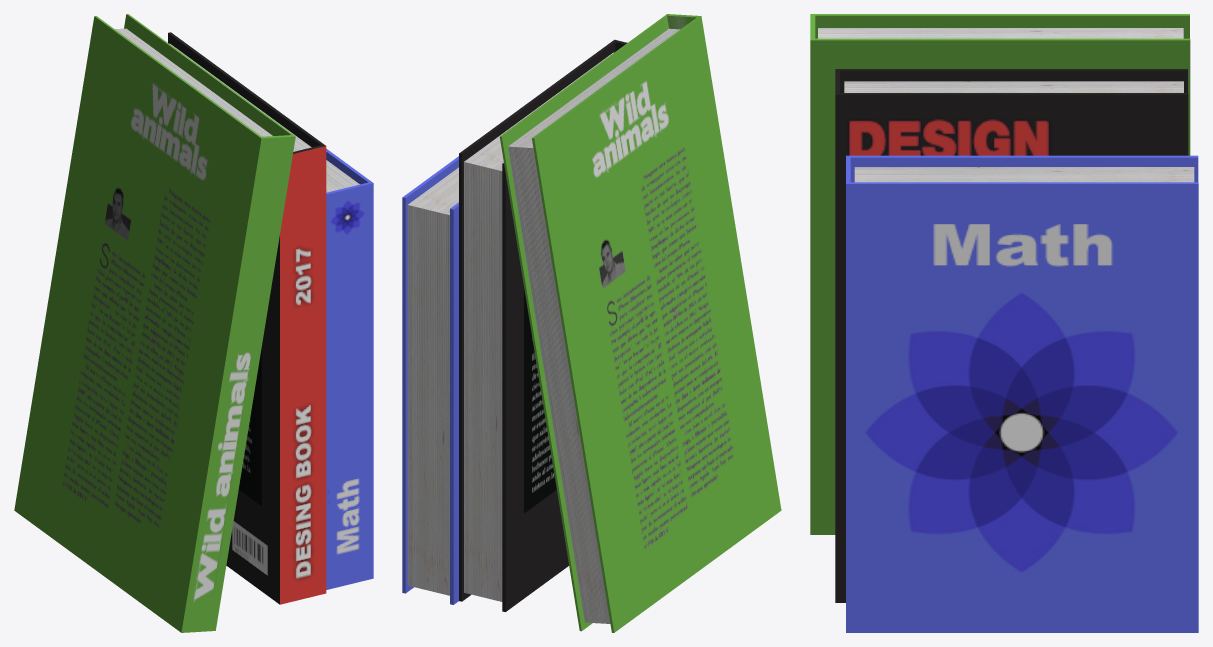
Rendered from Books 1.FBX.
3 renders of one model, left to right at view 1: azimuth 30°, elevation 25°; view 2: azimuth 150°, elevation 25°; view 3: azimuth 270°, elevation 25°, orthographic. The views are drawn at different scales.
Parts seen in each view (by area): view 1: Books 1; view 2: Books 1; view 3: Books 1.
Part boxes in pixels (bbox=[...]): Books 1: bbox=[14, 14, 373, 632]; Books 1: bbox=[402, 14, 781, 632]; Books 1: bbox=[810, 14, 1198, 632].
Bounding box in the file's own units: 11.93 × 26.46 × 17.
Materials: 1 (1 with a texture image).
